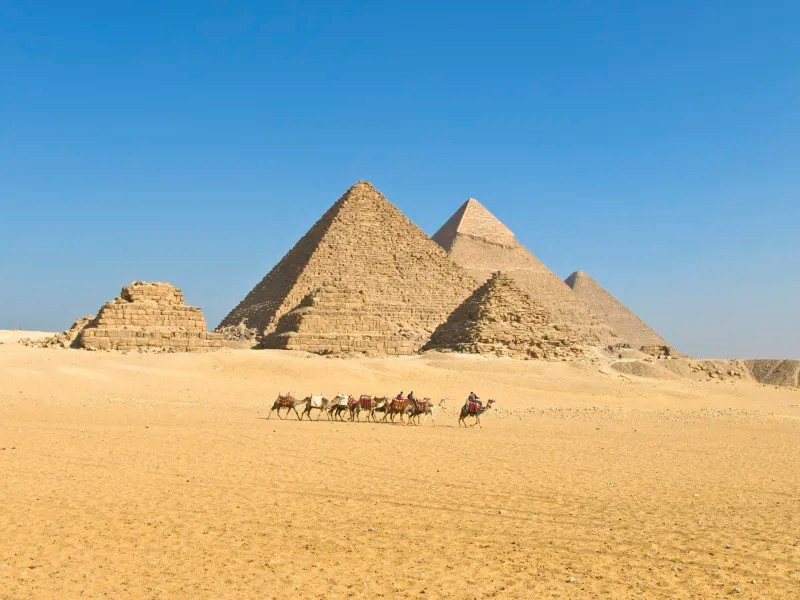Pyramid: (216, 180, 480, 348), (432, 199, 631, 356), (256, 276, 432, 357), (432, 274, 586, 359), (53, 283, 228, 353), (565, 271, 678, 357)
